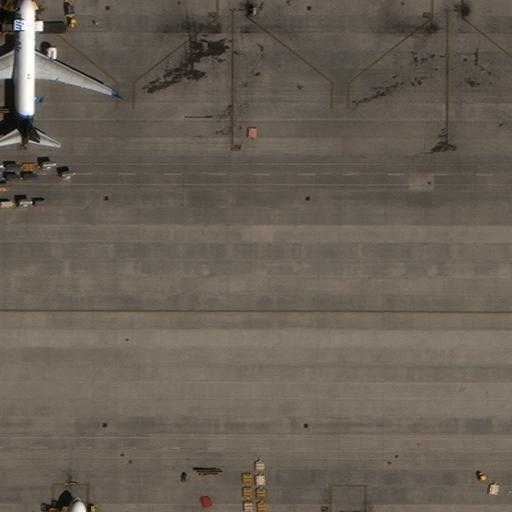Large Civil Transport: (0, 0, 116, 149)
